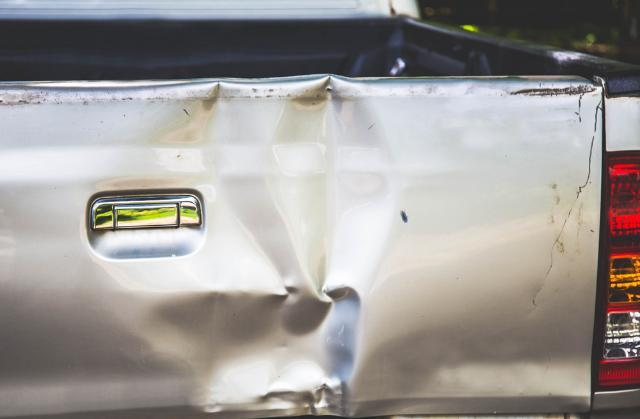crack: (530, 98, 604, 310)
dent: (131, 72, 396, 419)
